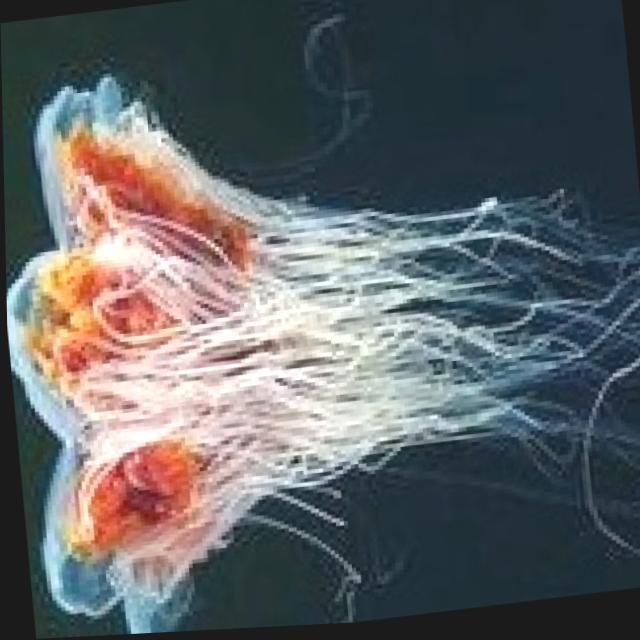Box-jellyfish: (1, 12, 640, 640)
